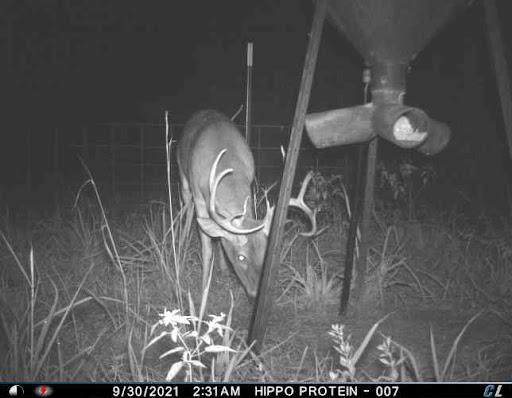Deer: (167, 101, 329, 314)
